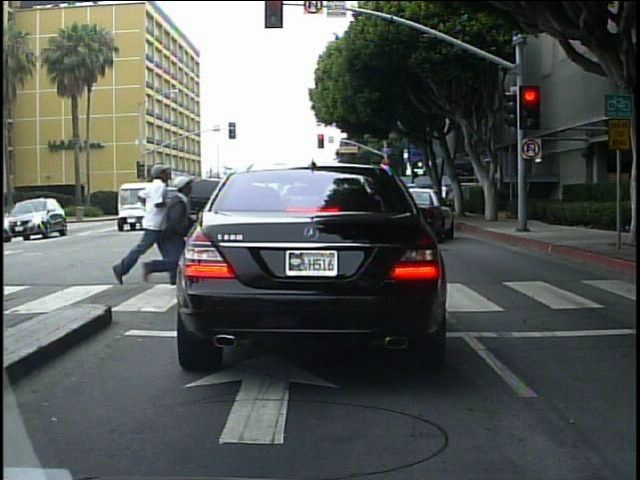person: (105, 164, 165, 296), (126, 170, 186, 297), (437, 179, 453, 214)
